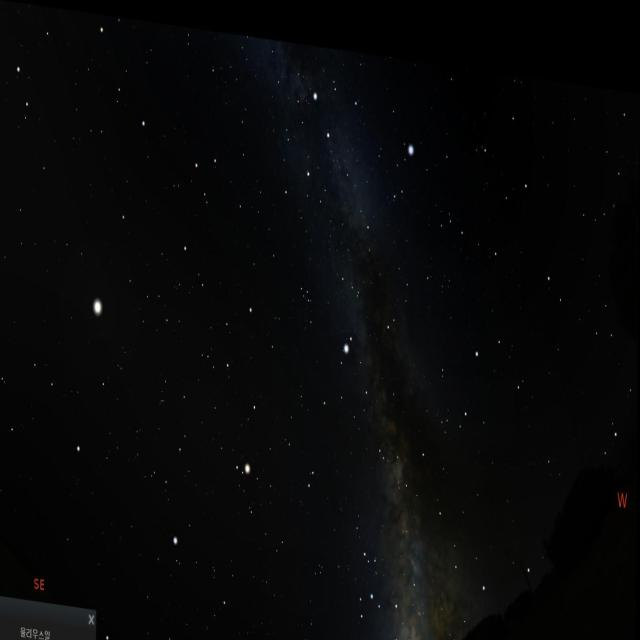aquila: (319, 315, 403, 460)
lyra: (380, 121, 424, 204)
sagittarius: (370, 573, 413, 640)
